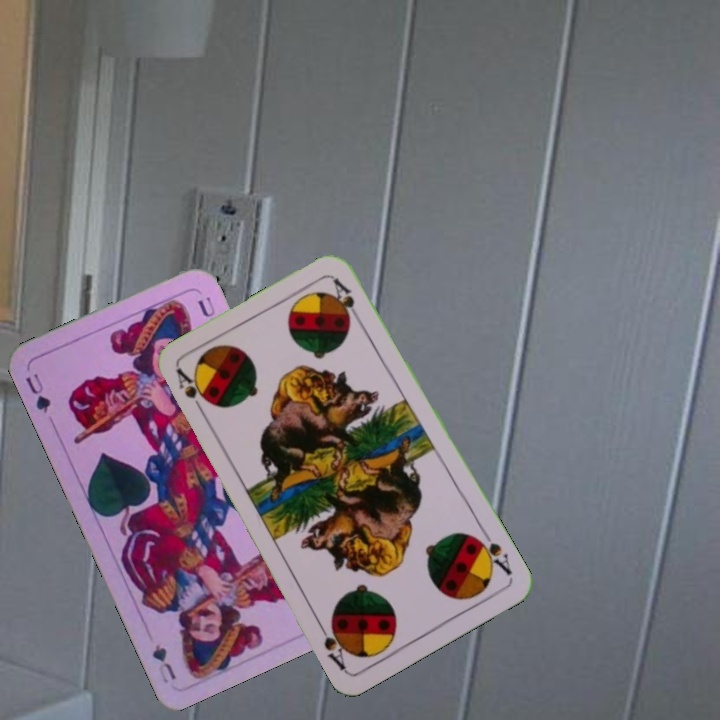GU: (21, 369, 54, 416)
SA: (469, 525, 515, 578), (172, 365, 210, 420)
